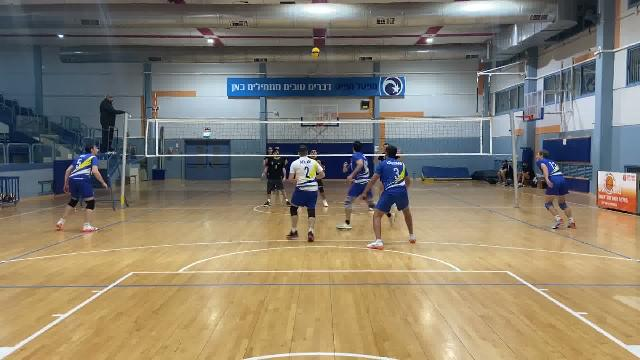ball: (311, 49, 321, 60)
